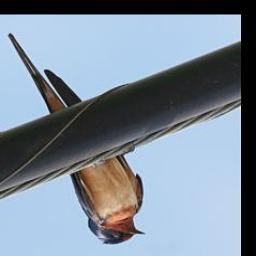Swallow: (7, 34, 147, 247)
